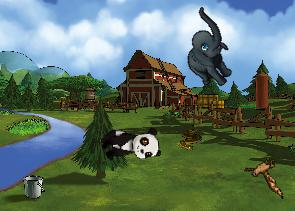eagle: (238, 150, 294, 199)
elephant: (164, 6, 253, 94)
panda: (99, 126, 161, 163)
